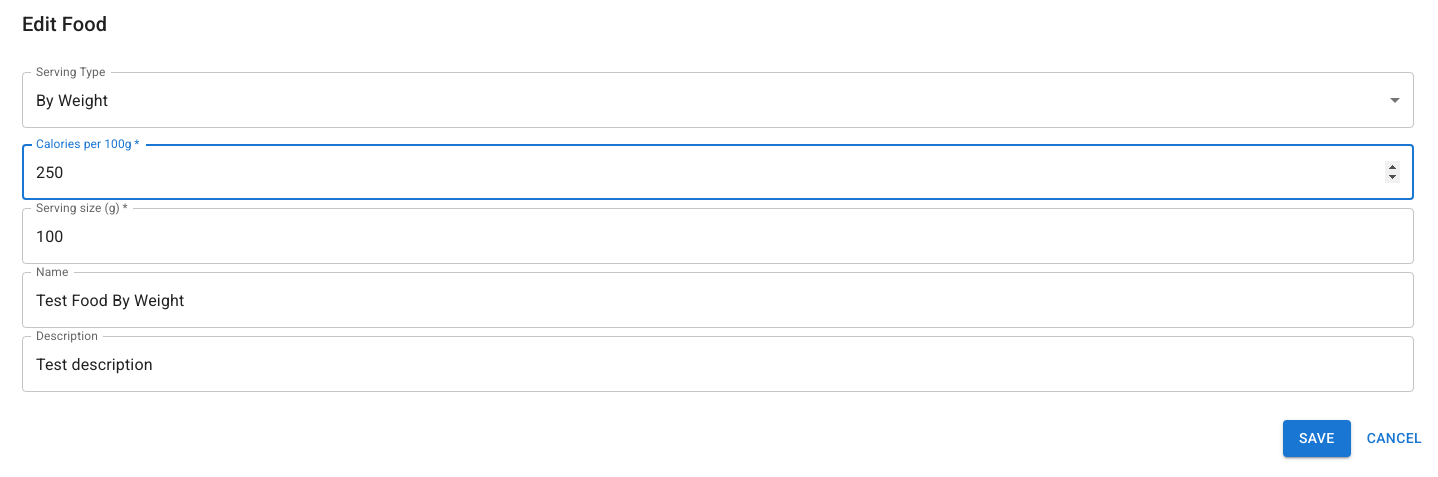
EditFoodBody › switches between serving types correctly
The image size is (1438, 477).
Check: the number field labelled "Calories per 100g *" is shown, box [22,144,1414,200]
// Switch to fixed serving
What coordinates should you click on to do the following:
click the dropdown named "Serving Type"
I would click on:
 (72, 100)
Its box is [36,90,108,110].
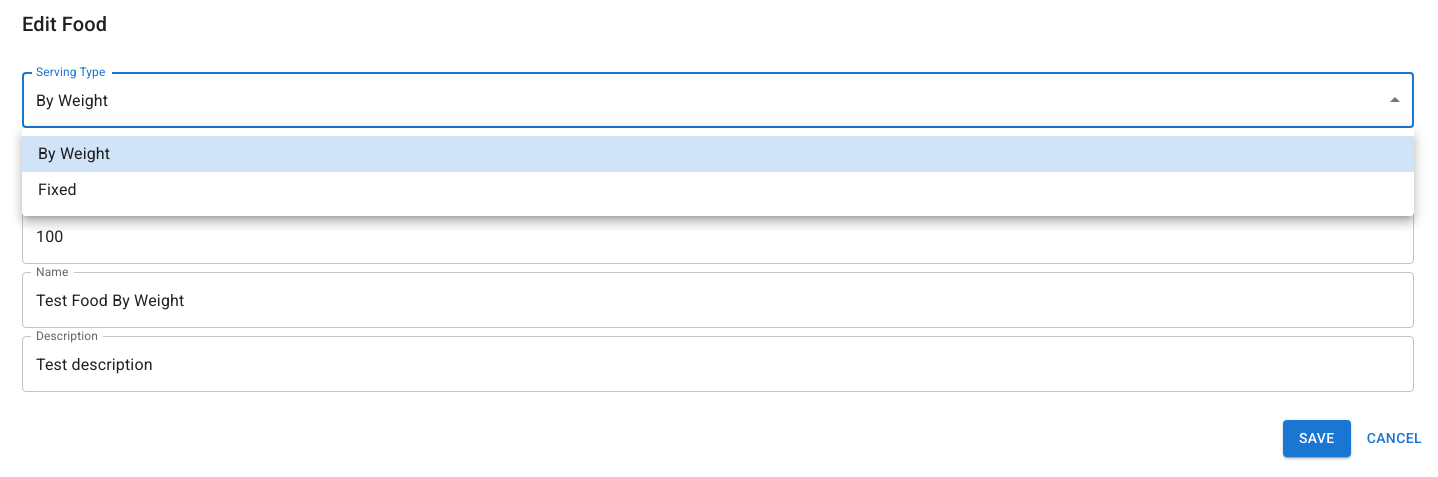
What coordinates should you click on to do the following:
click the option "Fixed"
I would click on:
 (57, 190)
Its box is [38,180,77,199].
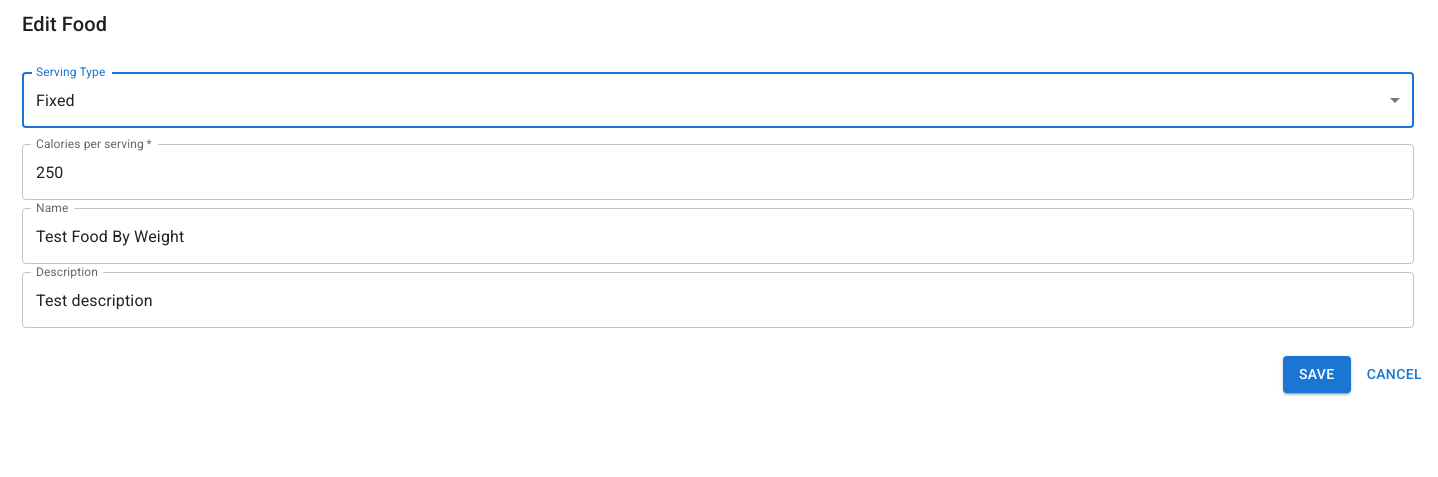
Check: the label labelled "Calories per 100g" is gone
Check: the number field labelled "Calories per serving *" is shown, box [22,144,1414,200]
